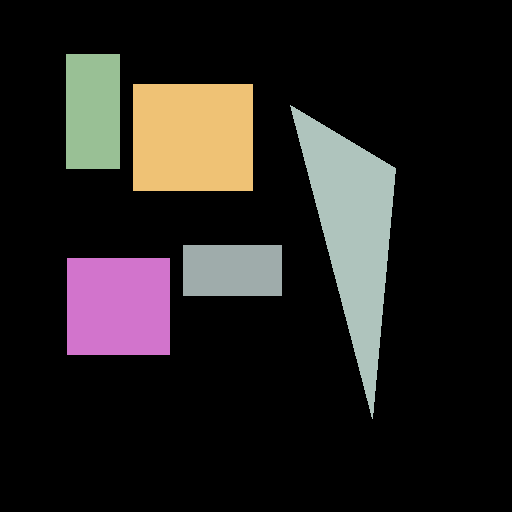rectangle: (133, 84, 252, 190), (66, 54, 119, 168), (183, 245, 281, 295)
square: (67, 258, 169, 354)
triangle: (290, 105, 395, 418)
